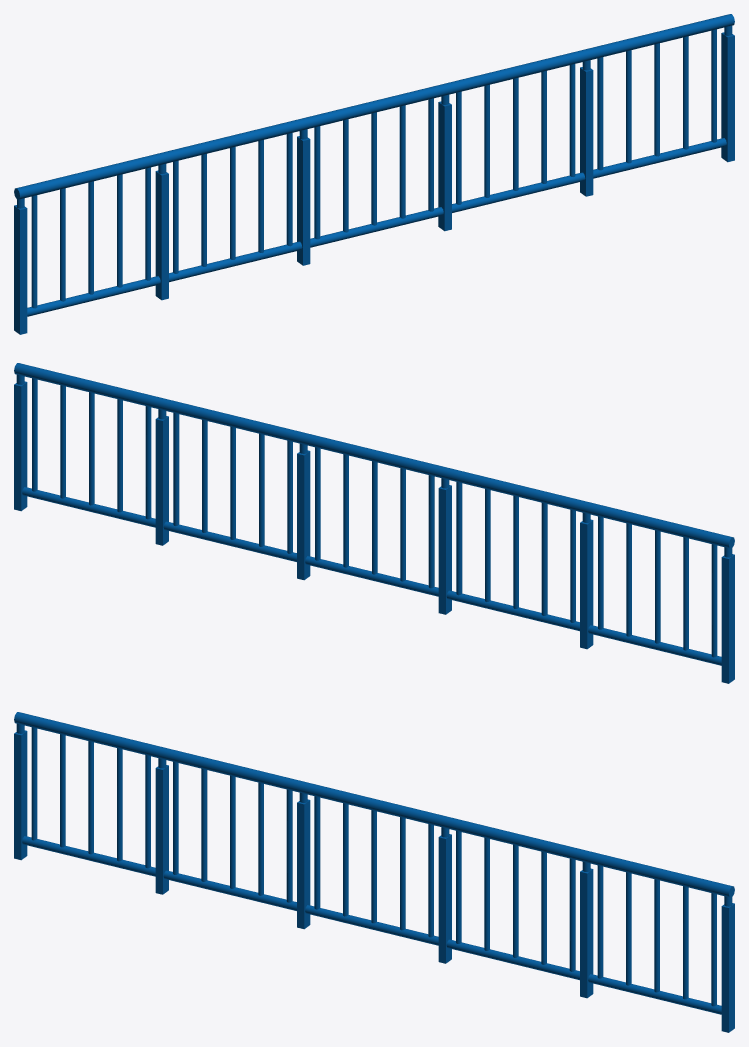
The model's file is Guard_02_Ufa.FBX.
3 views of the same model, one above another, from view 1: azimuth 30°, elevation 25°; view 2: azimuth 150°, elevation 25°; view 3: azimuth 330°, elevation 25° (orthographic).
Visible parts, largest first — view 1: Guard_02_Ufa; view 2: Guard_02_Ufa; view 3: Guard_02_Ufa.
Boxes of the visible parts, box(x1,y1,x2,y2) form: Guard_02_Ufa: box(14, 14, 734, 334); Guard_02_Ufa: box(14, 363, 734, 683); Guard_02_Ufa: box(14, 712, 734, 1032).
Bounding box in the file's own units: 5.39 × 1.04 × 0.0802.
1 material, 1 textured.
